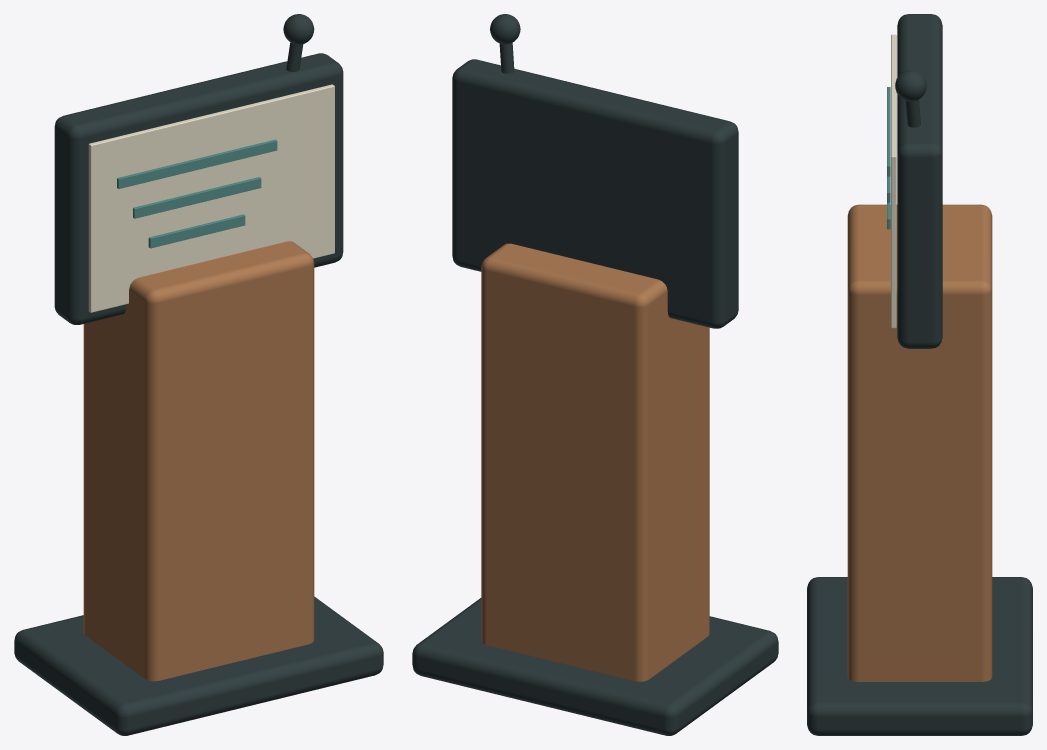
File: lectern.glb
The picture shows the model from 3 angles, left to right: view 1: azimuth 30°, elevation 25°; view 2: azimuth 150°, elevation 25°; view 3: azimuth 270°, elevation 25°; orthographic projection. The views are drawn at different scales.
Parts seen in each view (by area): view 1: lectern; view 2: lectern; view 3: lectern.
Part boxes in pixels (x1,y1,x2,y2): lectern: (14,14,383,735); lectern: (412,14,778,735); lectern: (807,14,1032,735).
Bounding box in the file's own units: 0.72 × 1.58 × 0.5.
